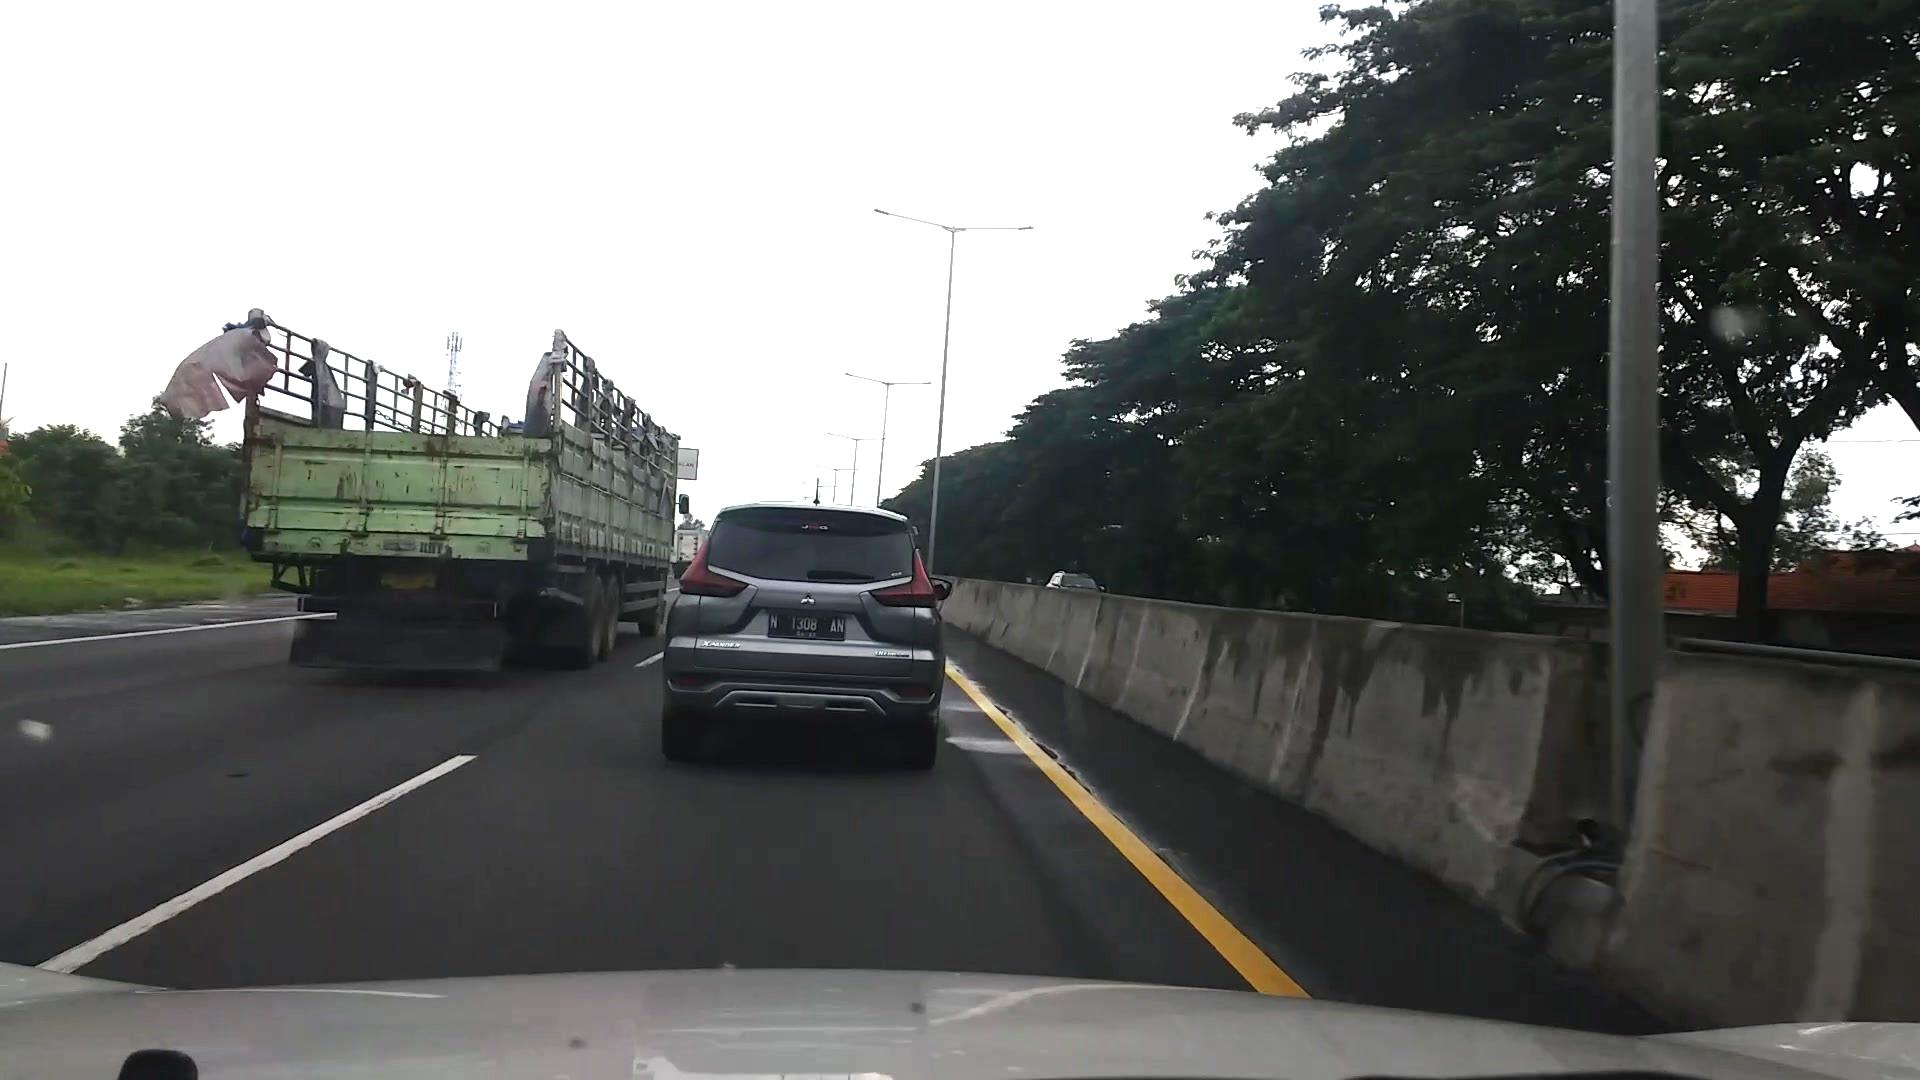plate_positive: (769, 615, 844, 641)
